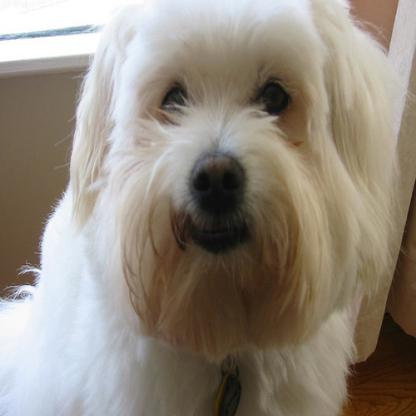dog: (0, 0, 404, 415)
